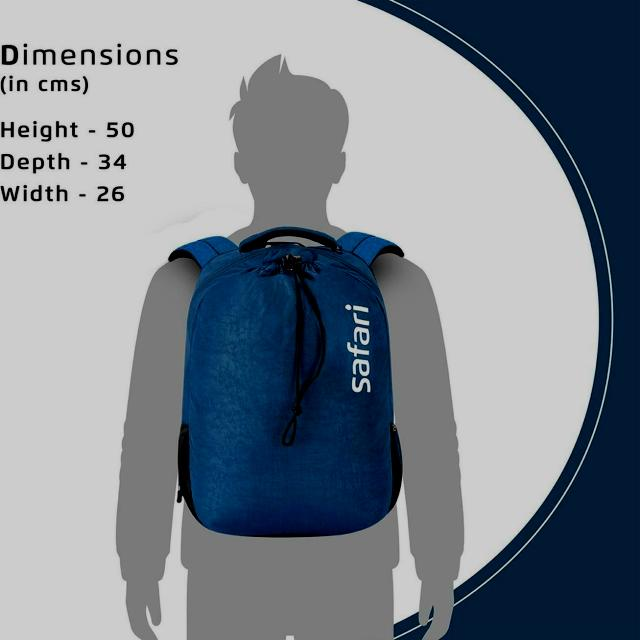backpack: (168, 228, 407, 540)
